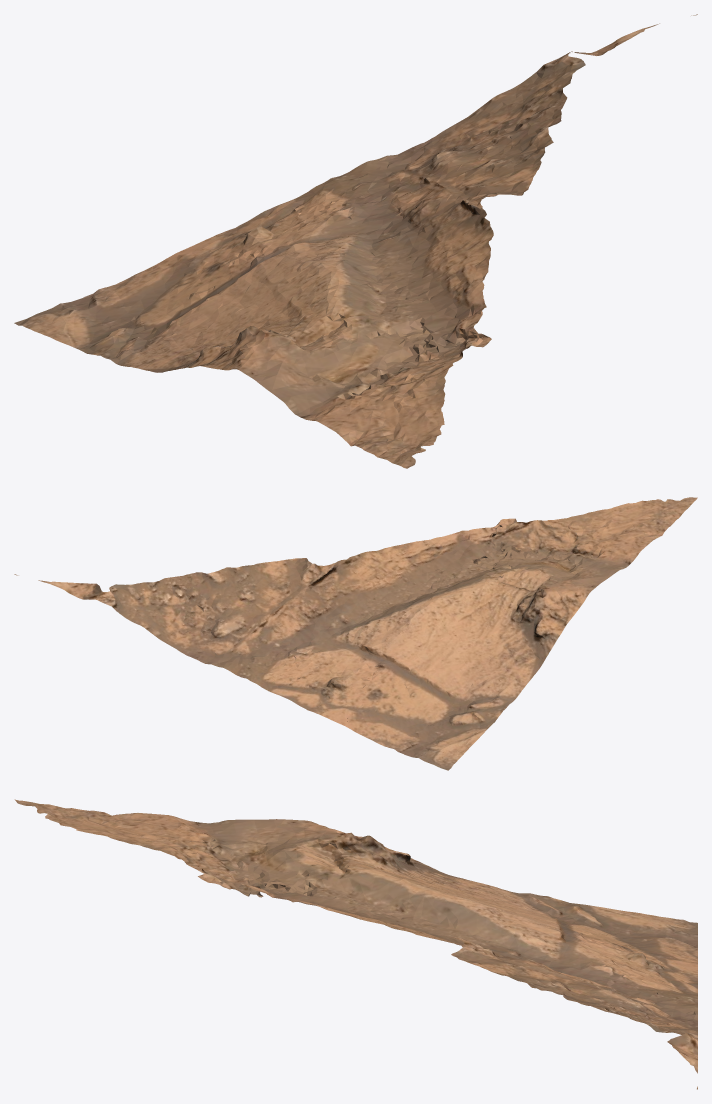
The picture shows the model from 3 angles, top to bottom: view 1: azimuth 30°, elevation 25°; view 2: azimuth 150°, elevation 25°; view 3: azimuth 270°, elevation 25°; orthographic projection. The views are drawn at different scales.
Size of the model in its own units: 4.02 by 0.7983 by 4.01.
Materials: 1 (1 with a texture image).
